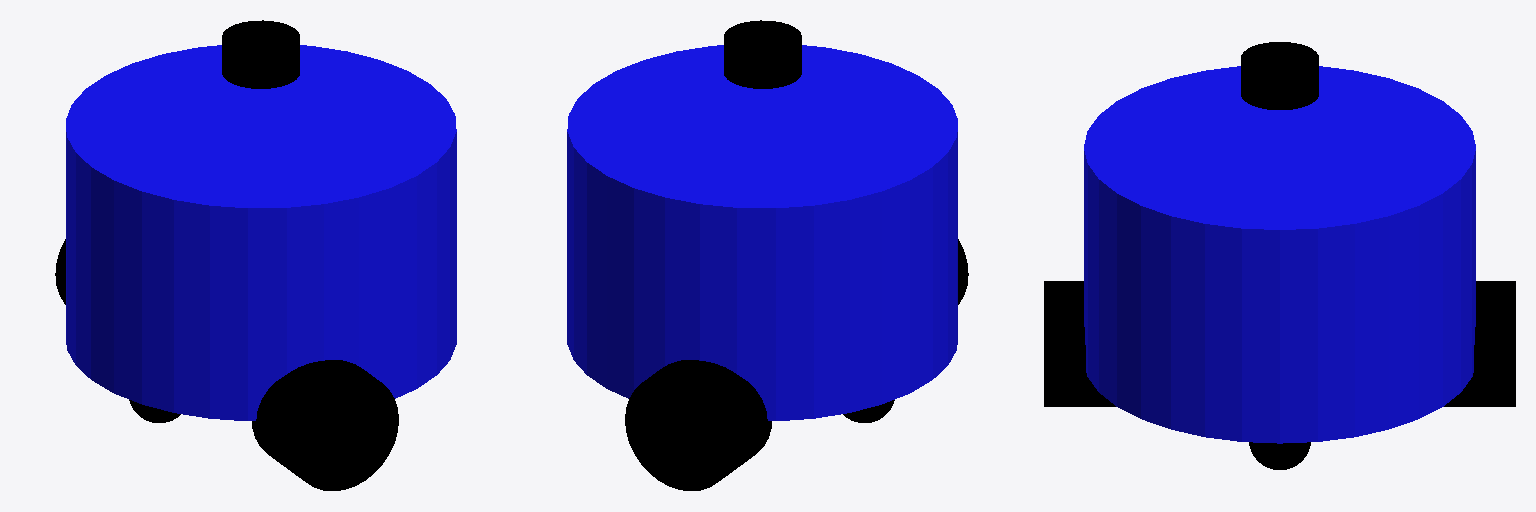
robot.urdf — fishbot:
<?xml version="1.0"?>
<robot name="fishbot">


  <!-- Robot Footprint -->
  <link name="base_footprint"/>

  <joint name="base_joint" type="fixed">
    <parent link="base_footprint"/>
    <child link="base_link"/>
    <origin xyz="0.0 0.0 0.2" rpy="0 0 0"/>
  </joint>


  <!-- base link -->
  <link name="base_link">
  	<visual>
      <origin xyz="0 0 0.0" rpy="0 0 0"/>
      <geometry>
		<cylinder length="0.12" radius="0.10"/>
      </geometry>
      <material name="blue">
      	<color rgba="0.1 0.1 1.0 0.5" /> 
      </material>
    </visual>
    <collision>
      <origin xyz="0 0 0.0" rpy="0 0 0"/>
      <geometry>
		<cylinder length="0.12" radius="0.10"/>
      </geometry>
      <material name="blue">
      	<color rgba="0.1 0.1 1.0 0.5" /> 
      </material>
    </collision>
    <inertial>
      <mass value="0.2"/>
      <inertia ixx="0.0122666" ixy="0" ixz="0" iyy="0.0122666" iyz="0" izz="0.02"/>
    </inertial>
  </link>
    
  <!-- laser link -->
  <link name="laser_link">
    <visual>
      <origin xyz="0 0 0" rpy="0 0 0"/>
      <geometry>
        <cylinder length="0.02" radius="0.02"/>
      </geometry>
      <material name="black">
        <color rgba="0.0 0.0 0.0 0.5" /> 
      </material>
    </visual>
    <collision>
      <origin xyz="0 0 0" rpy="0 0 0"/>
      <geometry>
        <cylinder length="0.02" radius="0.02"/>
      </geometry>
      <material name="black">
        <color rgba="0.0 0.0 0.0 0.5" /> 
      </material>
    </collision>
    <inertial>
    <mass value="0.1"/>
      <inertia ixx="0.000190416666667" ixy="0" ixz="0" iyy="0.0001904" iyz="0" izz="0.00036"/>
    </inertial>
  </link>
  
  <!-- laser joint -->
  <joint name="laser_joint" type="fixed">
      <parent link="base_link" />
      <child link="laser_link" />
      <origin xyz="0 0 0.1" />
  </joint>

  <link name="imu_link">
  	<visual>
      <origin xyz="0 0 0.0" rpy="0 0 0"/>
      <geometry>
		    <box size="0.02 0.02 0.02"/>
      </geometry>
    </visual>
    <collision>
      <origin xyz="0 0 0.0" rpy="0 0 0"/>
      <geometry>
		    <box size="0.02 0.02 0.02"/>
      </geometry>
    </collision>
    <inertial>
      <mass value="0.1"/>
        <inertia ixx="0.000190416666667" ixy="0" ixz="0" iyy="0.0001904" iyz="0" izz="0.00036"/>
      </inertial>
  </link>

  <!-- imu joint -->
  <joint name="imu_joint" type="fixed">
      <parent link="base_link" />
      <child link="imu_link" />
      <origin xyz="0 0 0.02" />
  </joint>


  <link name="left_wheel_link">
      <visual>
        <origin xyz="0 0 0" rpy="1.57079 0 0"/>
        <geometry>
          <cylinder length="0.04" radius="0.032"/>
        </geometry>
          <material name="black">
            <color rgba="0.0 0.0 0.0 0.5" /> 
          </material>
      </visual>
      <collision>
        <origin xyz="0 0 0" rpy="1.57079 0 0"/>
        <geometry>
          <cylinder length="0.04" radius="0.032"/>
        </geometry>
          <material name="black">
            <color rgba="0.0 0.0 0.0 0.5" /> 
          </material>
      </collision>
      <inertial>
        <mass value="0.2"/>
          <inertia ixx="0.000190416666667" ixy="0" ixz="0" iyy="0.0001904" iyz="0" izz="0.00036"/>
        </inertial>
  </link>
    
  <link name="right_wheel_link">
      <visual>
        <origin xyz="0 0 0" rpy="1.57079 0 0"/>
        <geometry>
          <cylinder length="0.04" radius="0.032"/>
        </geometry>
          <material name="black">
            <color rgba="0.0 0.0 0.0 0.5" /> 
          </material>
      </visual>
      <collision>
        <origin xyz="0 0 0" rpy="1.57079 0 0"/>
        <geometry>
          <cylinder length="0.04" radius="0.032"/>
        </geometry>
          <material name="black">
            <color rgba="0.0 0.0 0.0 0.5" /> 
          </material>
      </collision>
      <inertial>
      <mass value="0.2"/>
      <inertia ixx="0.000190416666667" ixy="0" ixz="0" iyy="0.0001904" iyz="0" izz="0.00036"/>
    </inertial>
  </link>
    
  <joint name="left_wheel_joint" type="continuous">
      <parent link="base_link" />
      <child link="left_wheel_link" />
      <origin xyz="-0.02 0.10 -0.06" />
      <axis xyz="0 1 0" />
  </joint>

  <joint name="right_wheel_joint" type="continuous">
      <parent link="base_link" />
      <child link="right_wheel_link" />
      <origin xyz="-0.02 -0.10 -0.06" />
      <axis xyz="0 1 0" />
  </joint>

  <link name="caster_link">
      <visual>
        <origin xyz="0 0 0" rpy="1.57079 0 0"/>
        <geometry>
            <sphere radius="0.016"/>
        </geometry>
          <material name="black">
            <color rgba="0.0 0.0 0.0 0.5" /> 
          </material>
      </visual>
      <collision>
        <origin xyz="0 0 0" rpy="1.57079 0 0"/>
        <geometry>
            <sphere radius="0.016"/>
        </geometry>
          <material name="black">
            <color rgba="0.0 0.0 0.0 0.5" /> 
          </material>
      </collision>
      <inertial>
      <mass value="0.02"/>
      <inertia ixx="0.000190416666667" ixy="0" ixz="0" iyy="0.0001904" iyz="0" izz="0.00036"/>
    </inertial>
  </link>
    
  <joint name="caster_joint" type="fixed">
      <parent link="base_link" />
      <child link="caster_link" />
      <origin xyz="0.06 0.0 -0.076" />
      <axis xyz="0 1 0" />
  </joint>



  <gazebo reference="caster_link">
    <material>Gazebo/Black</material>
  </gazebo>

  <gazebo reference="caster_link">
    <mu1 value="0.0"/>
    <mu2 value="0.0"/>
    <kp value="1000000.0" />
    <kd value="10.0" />
  </gazebo>

<!-- new -->
  <link name="caster1_link">
      <visual>
        <origin xyz="0 0 0" rpy="1.57079 0 0"/>
        <geometry>
            <sphere radius="0.016"/>
        </geometry>
          <material name="black">
            <color rgba="0.0 0.0 0.0 0.5" /> 
          </material>
      </visual>
      <collision>
        <origin xyz="0 0 0" rpy="1.57079 0 0"/>
        <geometry>
            <sphere radius="0.016"/>
        </geometry>
          <material name="black">
            <color rgba="0.0 0.0 0.0 0.5" /> 
          </material>
      </collision>
      <inertial>
      <mass value="0.02"/>
      <inertia ixx="0.000190416666667" ixy="0" ixz="0" iyy="0.0001904" iyz="0" izz="0.00036"/>
    </inertial>
  </link>
    
  <joint name="caster1_joint" type="fixed">
      <parent link="base_link" />
      <child link="caster1_link" />
      <origin xyz="-0.06 0.0 -0.076" />
      <axis xyz="0 1 0" />
  </joint>



  <gazebo reference="caster1_link">
    <material>Gazebo/Black</material>
  </gazebo>

  <gazebo reference="caster1_link">
    <mu1 value="0.0"/>
    <mu2 value="0.0"/>
    <kp value="1000000.0" />
    <kd value="10.0" />
  </gazebo>
<!-- new -->


  <gazebo>
    <plugin name='diff_drive' filename='libgazebo_ros_diff_drive.so'>
          <ros>
            <namespace>/</namespace>
            <remapping>cmd_vel:=cmd_vel</remapping>
            <remapping>odom:=odom</remapping>
          </ros>
          <update_rate>30</update_rate>
          <!-- wheels -->
          <left_joint>left_wheel_joint</left_joint>
          <right_joint>right_wheel_joint</right_joint>
          <!-- kinematics -->
          <wheel_separation>0.2</wheel_separation>
          <wheel_diameter>0.065</wheel_diameter>
          <!-- limits -->
          <max_wheel_torque>20</max_wheel_torque>
          <max_wheel_acceleration>1.0</max_wheel_acceleration>
          <!-- output -->
          <publish_odom>true</publish_odom>
          <publish_odom_tf>true</publish_odom_tf>
          <publish_wheel_tf>true</publish_wheel_tf>
          <odometry_frame>odom</odometry_frame>
          <robot_base_frame>base_footprint</robot_base_frame>
      </plugin>
    </gazebo> 

    <gazebo reference="imu_link">
      <sensor name="imu_sensor" type="imu">
      <plugin filename="libgazebo_ros_imu_sensor.so" name="imu_plugin">
          <ros>
            <namespace>/</namespace>
            <remapping>~/out:=imu</remapping>
          </ros>
          <initial_orientation_as_reference>false</initial_orientation_as_reference>
        </plugin>
        <always_on>true</always_on>
        <update_rate>100</update_rate>
        <visualize>true</visualize>
        <imu>
          <angular_velocity>
            <x>
              <noise type="gaussian">
                <mean>0.0</mean>
                <stddev>2e-4</stddev>
                <bias_mean>0.0000075</bias_mean>
                <bias_stddev>0.0000008</bias_stddev>
              </noise>
            </x>
            <y>
              <noise type="gaussian">
                <mean>0.0</mean>
                <stddev>2e-4</stddev>
                <bias_mean>0.0000075</bias_mean>
                <bias_stddev>0.0000008</bias_stddev>
              </noise>
            </y>
            <z>
              <noise type="gaussian">
                <mean>0.0</mean>
                <stddev>2e-4</stddev>
                <bias_mean>0.0000075</bias_mean>
                <bias_stddev>0.0000008</bias_stddev>
              </noise>
            </z>
          </angular_velocity>
          <linear_acceleration>
            <x>
              <noise type="gaussian">
                <mean>0.0</mean>
                <stddev>1.7e-2</stddev>
                <bias_mean>0.1</bias_mean>
                <bias_stddev>0.001</bias_stddev>
              </noise>
            </x>
            <y>
              <noise type="gaussian">
                <mean>0.0</mean>
                <stddev>1.7e-2</stddev>
                <bias_mean>0.1</bias_mean>
                <bias_stddev>0.001</bias_stddev>
              </noise>
            </y>
            <z>
              <noise type="gaussian">
                <mean>0.0</mean>
                <stddev>1.7e-2</stddev>
                <bias_mean>0.1</bias_mean>
                <bias_stddev>0.001</bias_stddev>
              </noise>
            </z>
          </linear_acceleration>
        </imu>
      </sensor>
    </gazebo>

  <gazebo reference="laser_link">
      <sensor name="laser_sensor" type="ray">
      <always_on>true</always_on>
      <visualize>true</visualize>
      <update_rate>10</update_rate>
      <pose>0 0 0.15 0 0 0</pose>
      <ray>
          <scan>
            <horizontal>
              <samples>1600</samples>
              <resolution>1.000000</resolution>
              <min_angle>0.000000</min_angle>
              <max_angle>6.280000</max_angle>
            </horizontal>
          </scan>
          <range>
            <min>0.2</min>
            <max>10.0</max>
            <resolution>0.015000</resolution>
          </range>
          <noise>
            <type>gaussian</type>
            <mean>0.0</mean>
            <stddev>0.01</stddev>
          </noise>
      </ray>

      <plugin name="laserscan" filename="libgazebo_ros_ray_sensor.so">
        <ros>
          <remapping>~/out:=scan</remapping>
        </ros>
        <output_type>sensor_msgs/LaserScan</output_type>
        <frame_name>laser_link</frame_name>
      </plugin>
      </sensor>
    </gazebo>

</robot>

--- What the picture shows (computed from the rendered views, not written in the file) ---
The picture shows the robot from 3 angles, left to right: view 1: azimuth 30°, elevation 25°; view 2: azimuth 150°, elevation 25°; view 3: azimuth 270°, elevation 25°; orthographic projection.
Robot: fishbot — 8 links, 7 joints (2 continuous, 5 fixed); root link base_footprint; default pose: every joint at zero.
Links seen in each view (by area): view 1: base_link, right_wheel_link, laser_link, caster1_link; view 2: base_link, left_wheel_link, laser_link, caster1_link; view 3: base_link, left_wheel_link, right_wheel_link, laser_link, caster_link.
Link boxes in pixels (left/top/right/bottom): base_link: left=66, top=45, right=456, bottom=420; right_wheel_link: left=252, top=360, right=398, bottom=490; laser_link: left=222, top=20, right=299, bottom=88; caster1_link: left=129, top=400, right=180, bottom=422; base_link: left=567, top=45, right=957, bottom=420; left_wheel_link: left=625, top=360, right=771, bottom=490; laser_link: left=724, top=20, right=801, bottom=88; caster1_link: left=843, top=400, right=894, bottom=422; base_link: left=1084, top=66, right=1475, bottom=443; left_wheel_link: left=1444, top=281, right=1515, bottom=406; right_wheel_link: left=1044, top=281, right=1115, bottom=406; laser_link: left=1241, top=42, right=1318, bottom=109; caster_link: left=1249, top=442, right=1310, bottom=469.
Size in the robot's own frame: 0.2 by 0.24 by 0.202 metres.
Geometry: primitives only (box / cylinder / sphere), no mesh files.
